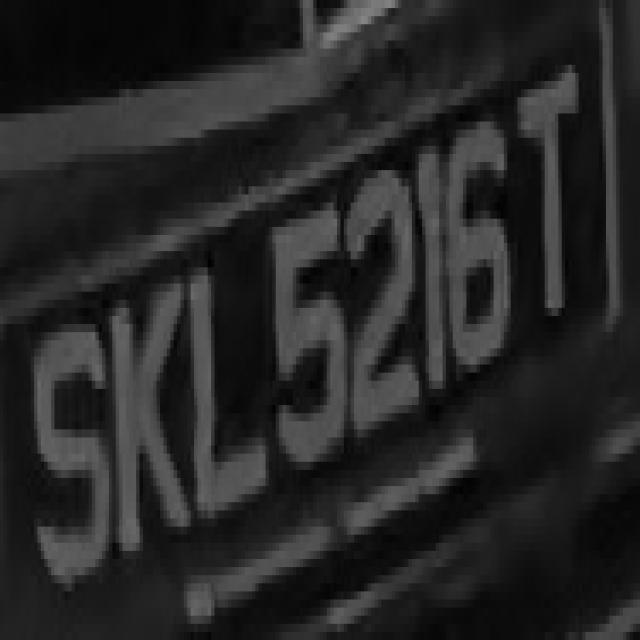1: (412, 122, 453, 430)
2: (341, 154, 422, 454)
5: (269, 195, 351, 494)
6: (443, 105, 514, 389)
K: (105, 259, 184, 559)
L: (184, 227, 262, 526)
S: (20, 316, 109, 624)
T: (500, 73, 592, 340)
